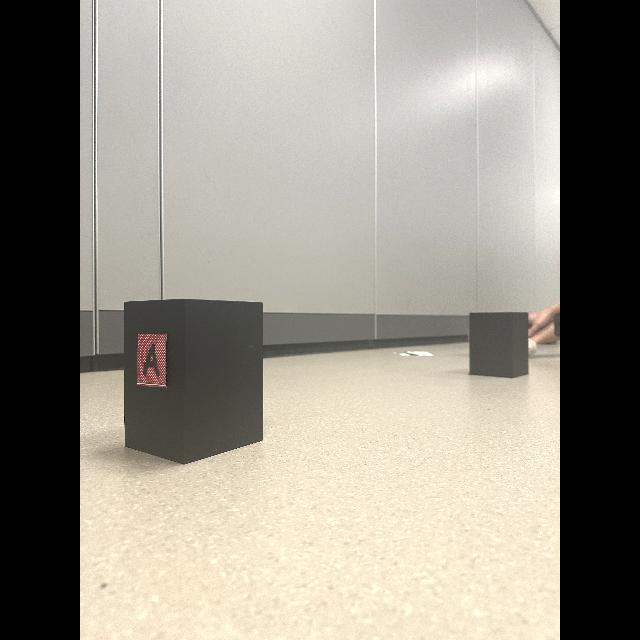A: (143, 343, 160, 376)
